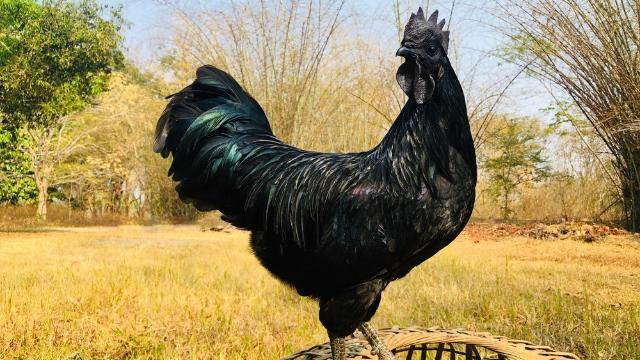Chicken: (152, 6, 478, 360)
